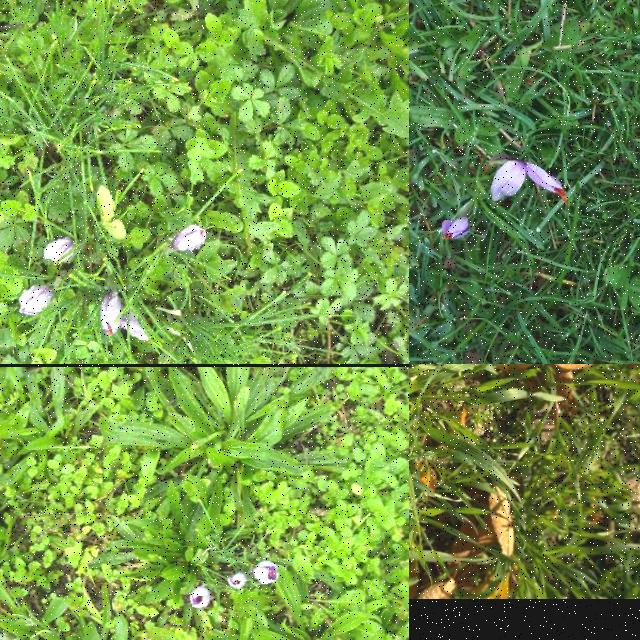flower: (492, 161, 570, 203), (19, 284, 55, 316), (170, 225, 208, 252), (44, 238, 78, 264), (442, 218, 472, 242), (254, 560, 278, 584), (190, 586, 212, 608), (228, 573, 246, 589)
overlap: (100, 293, 150, 341)
